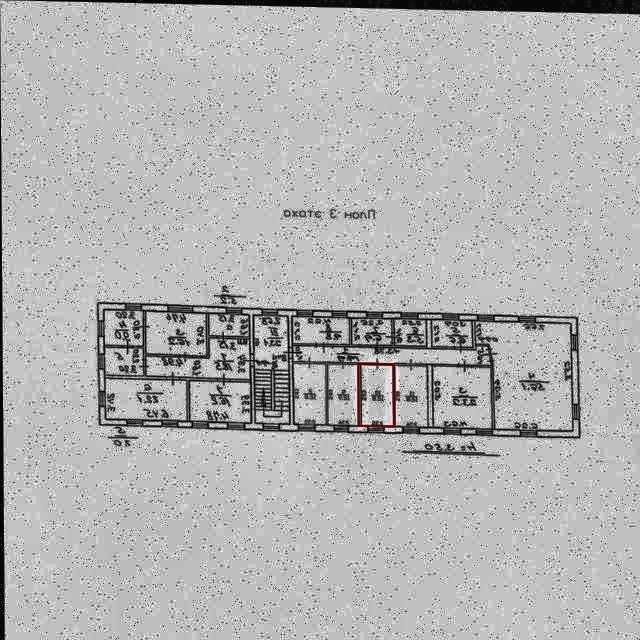room: (475, 317, 572, 429), (145, 336, 250, 378), (292, 341, 490, 363), (253, 314, 289, 423), (433, 365, 490, 427), (105, 379, 186, 420), (144, 311, 206, 353), (188, 381, 251, 421), (293, 362, 325, 423), (394, 364, 426, 425), (360, 364, 392, 424), (327, 363, 357, 423), (292, 316, 349, 342), (104, 310, 143, 345), (431, 318, 472, 345), (105, 347, 144, 375), (351, 317, 391, 343), (209, 312, 249, 335), (393, 317, 426, 344)
